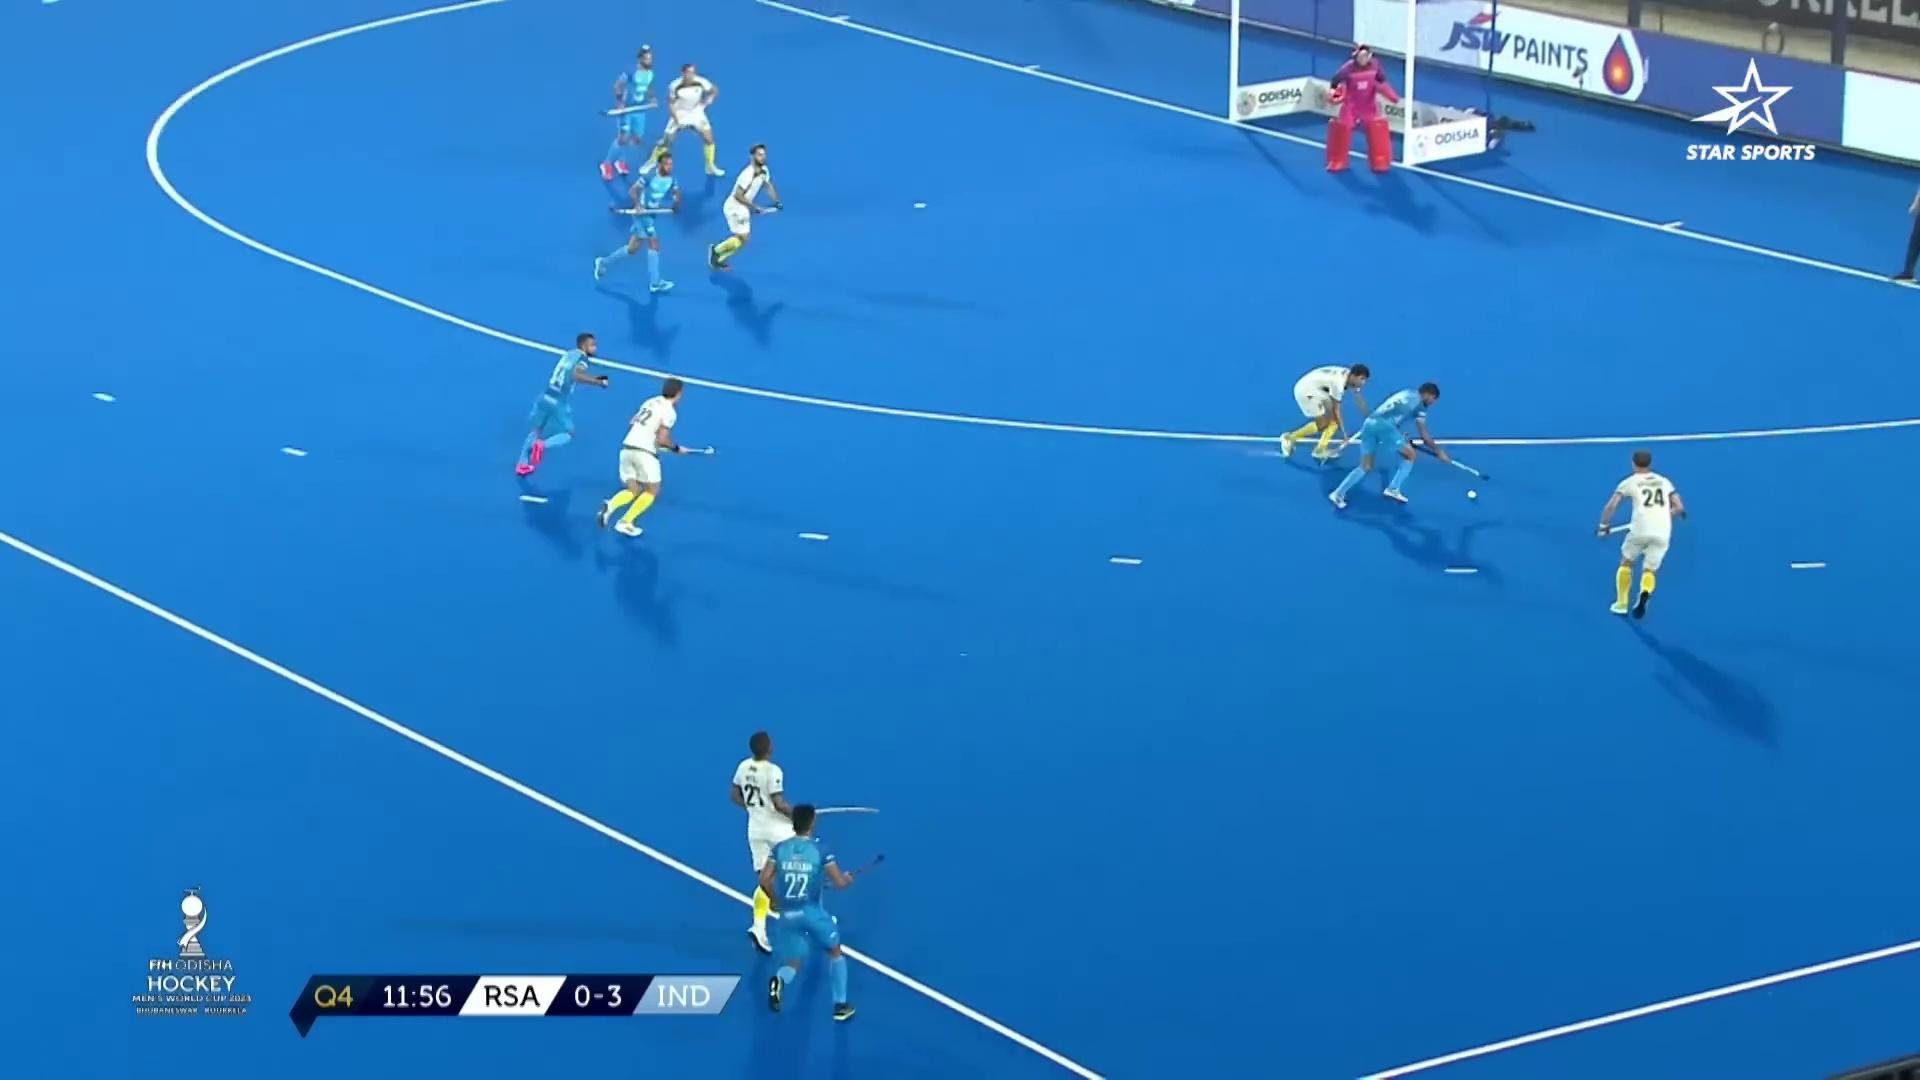ball: (1458, 479, 1489, 516)
